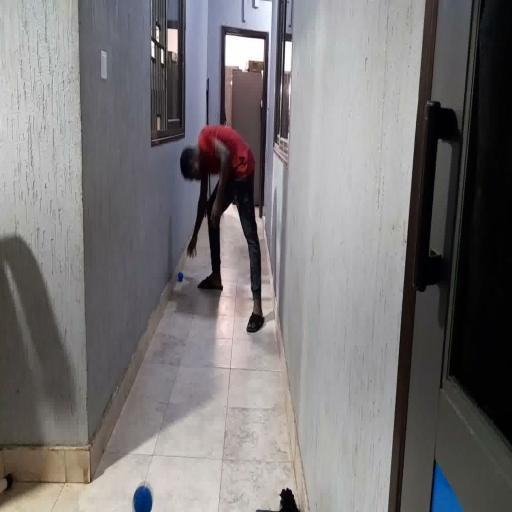plastic-ball: (131, 482, 154, 512)
